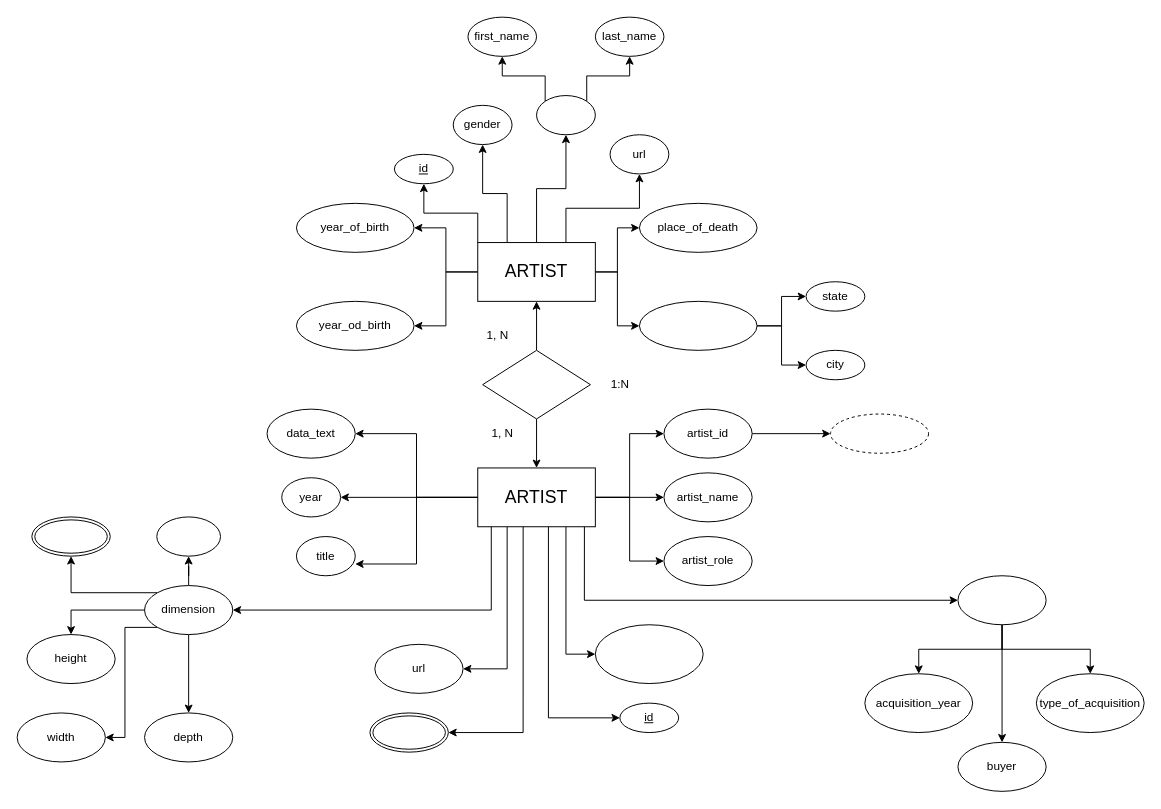
This 1161x809 diagram has some shape labels left out. Here are the shapes that lost their labels. From the top down, the box of each, then its label:
(536, 95, 595, 135): name
(638, 300, 757, 350): place_of_birth
(482, 349, 590, 419): create
(830, 413, 929, 453): count
(31, 516, 110, 556): type
(156, 516, 220, 556): unit
(957, 575, 1046, 625): credit_line
(594, 624, 703, 684): accession_number
(369, 712, 448, 752): medium
